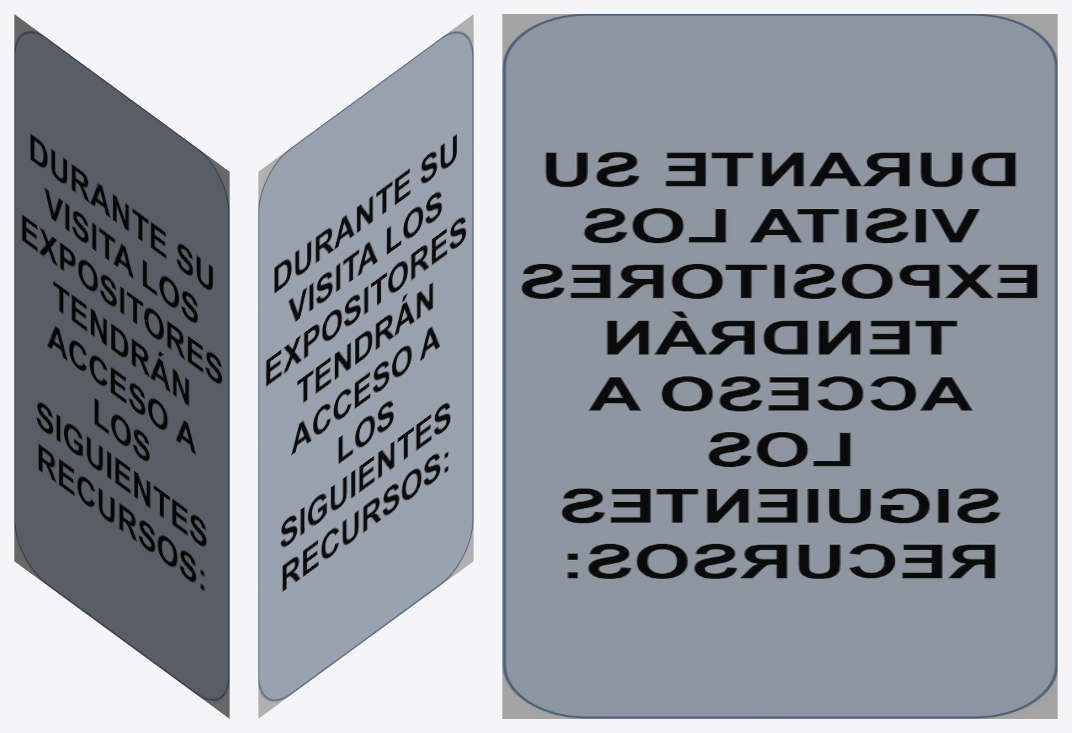
Rendered from Cartel3.obj.
3 renders of one model, left to right at view 1: azimuth 30°, elevation 25°; view 2: azimuth 150°, elevation 25°; view 3: azimuth 270°, elevation 25°, orthographic. The views are drawn at different scales.
Visible parts, largest first — view 1: Cartel3; view 2: Cartel3; view 3: Cartel3.
Boxes of the visible parts, bbox=[...] form: Cartel3: bbox=[14, 14, 229, 718]; Cartel3: bbox=[258, 14, 473, 718]; Cartel3: bbox=[502, 14, 1057, 718].
Size of the model in its own units: 0 by 2.8 by 2.
1 material, 1 textured.
